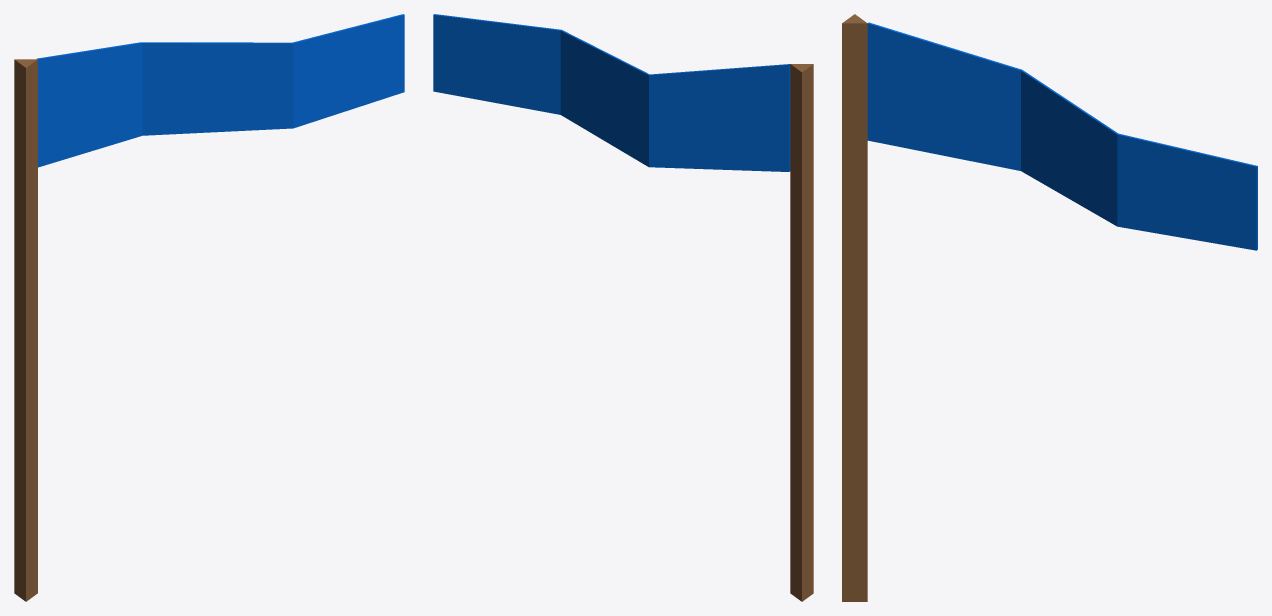
File: Player_flag_blue_1_mat.fbx
3 views of the same model, side by side, from view 1: azimuth 30°, elevation 25°; view 2: azimuth 150°, elevation 25°; view 3: azimuth 330°, elevation 25° (orthographic). The views are drawn at different scales.
Parts seen in each view (by area): view 1: Player_flag_blue_1_mat; view 2: Player_flag_blue_1_mat; view 3: Player_flag_blue_1_mat.
Boxes of the visible parts, x1,y1,x2,y2 form: Player_flag_blue_1_mat: (14, 14, 404, 601); Player_flag_blue_1_mat: (433, 14, 813, 601); Player_flag_blue_1_mat: (842, 14, 1257, 601).
Size of the model in its own units: 0.61 by 0.8178 by 0.0894.
